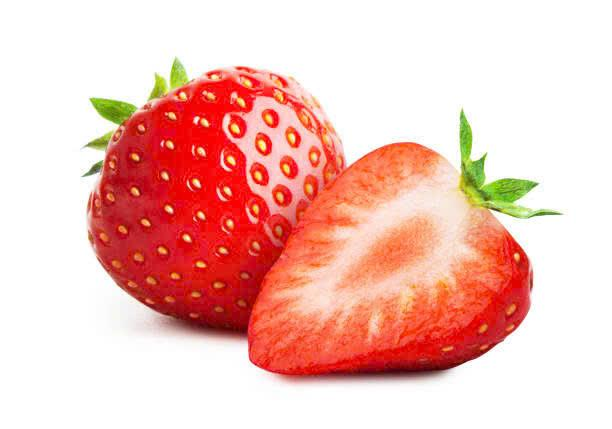strawberry: (42, 31, 290, 306), (273, 131, 555, 368)
